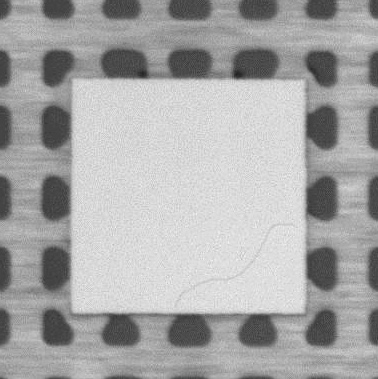DIE_CRACK: (177, 223, 300, 308)
